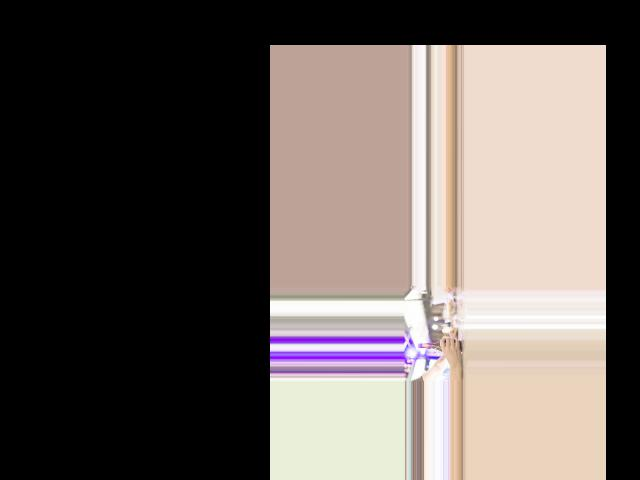beer: (418, 340, 461, 351)
